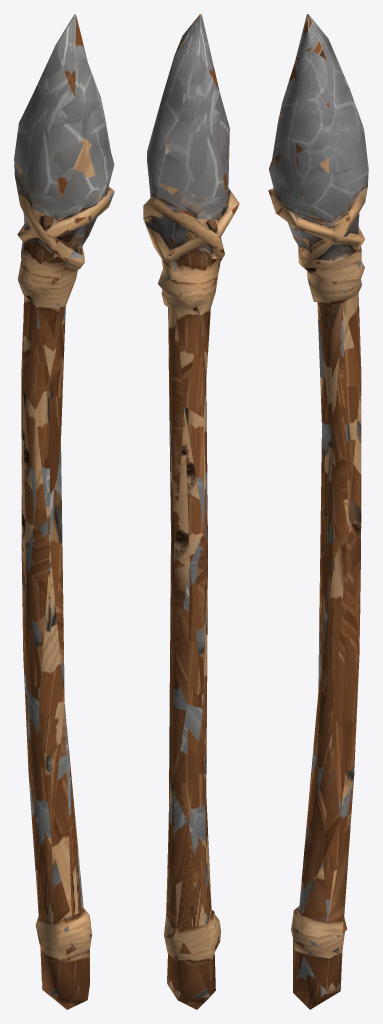
The model's file is spear.glb.
3 renders of one model, left to right at view 1: azimuth 90°, elevation 25°; view 2: azimuth 150°, elevation 25°; view 3: azimuth 270°, elevation 25°, orthographic.
Visible parts, largest first — view 1: Model; view 2: Model; view 3: Model.
Part boxes in pixels (x1=…): Model: x1=14, y1=14, x2=114, y2=1009; Model: x1=143, y1=14, x2=239, y2=1009; Model: x1=268, y1=14, x2=368, y2=1009.
Size of the model in its own units: 0.1497 by 1.87 by 0.1722.
1 material, 1 textured.
